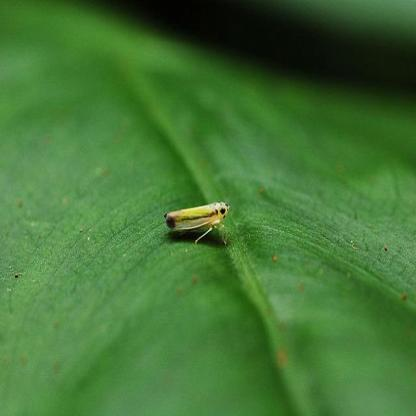green-leafhopper: (166, 198, 228, 247)
